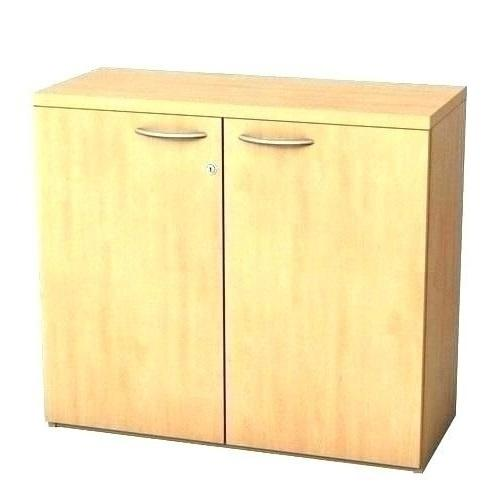cabinet_door: (226, 124, 447, 462), (39, 116, 221, 441)
handle: (236, 129, 319, 154), (132, 125, 212, 148)
